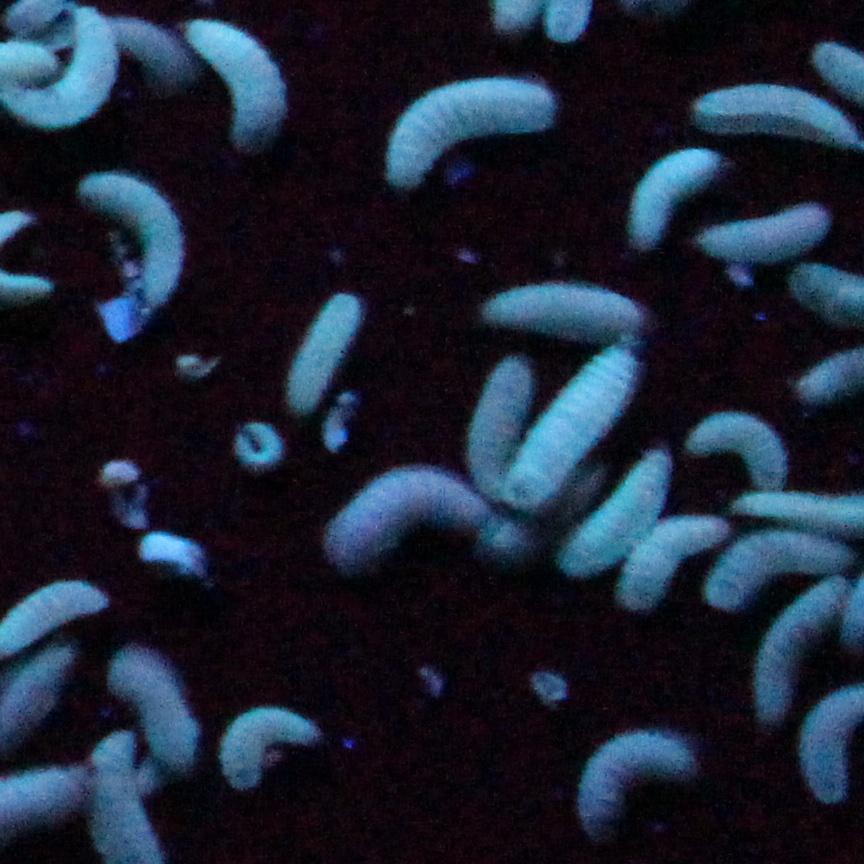larve: (504, 354, 629, 494), (393, 78, 543, 184), (104, 164, 192, 318), (192, 13, 289, 147), (334, 477, 458, 557), (564, 468, 669, 561), (755, 587, 827, 721), (595, 724, 690, 819), (28, 18, 116, 120), (285, 296, 364, 401), (693, 80, 841, 136), (713, 538, 830, 603), (490, 278, 636, 326), (625, 519, 713, 598), (128, 647, 192, 750), (693, 412, 786, 482), (236, 703, 319, 781), (700, 203, 820, 256), (478, 366, 539, 470), (126, 6, 192, 89), (641, 149, 700, 240), (240, 423, 284, 471)
